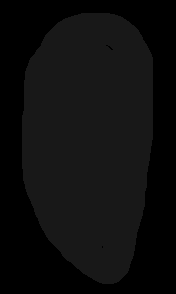fp: (15, 10, 161, 283)
